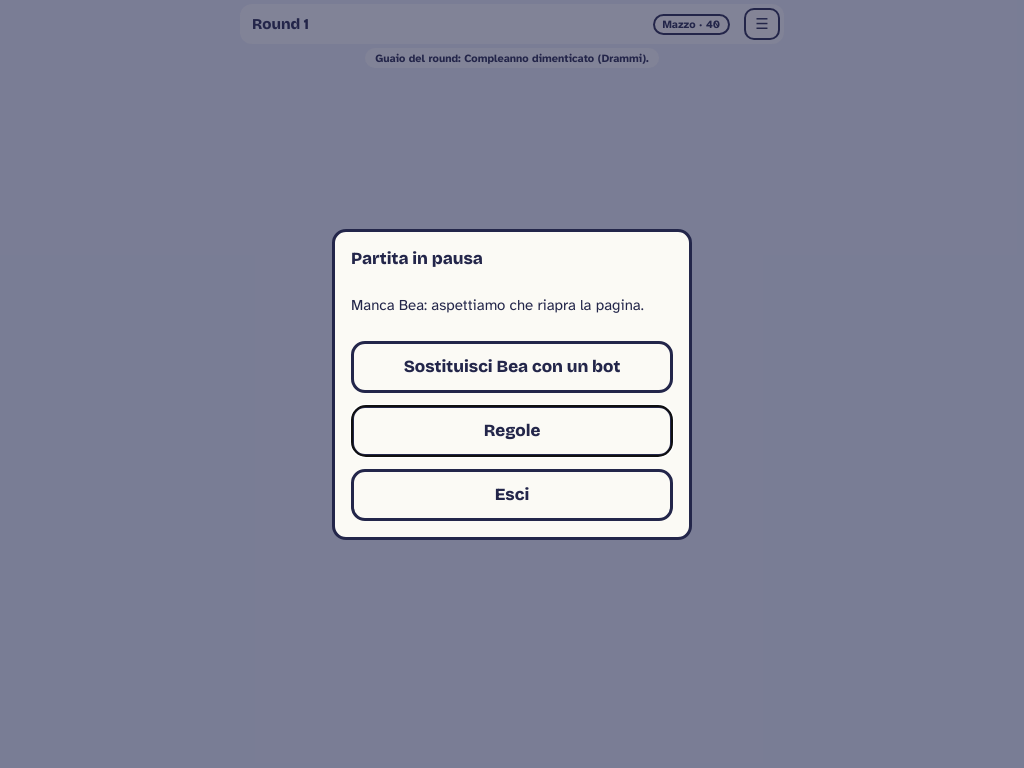
Test: Regole aperte dalla stanza › nel gioco vero (App): dal velo di pausa chi ospita ha il richiamo per decidere; al ritorno il punto della tastiera torna sul "Regole" del velo
This screenshot has width=1024, height=768.
Step 1. Click the button "Regole" → (512, 430), box [351, 404, 673, 456]
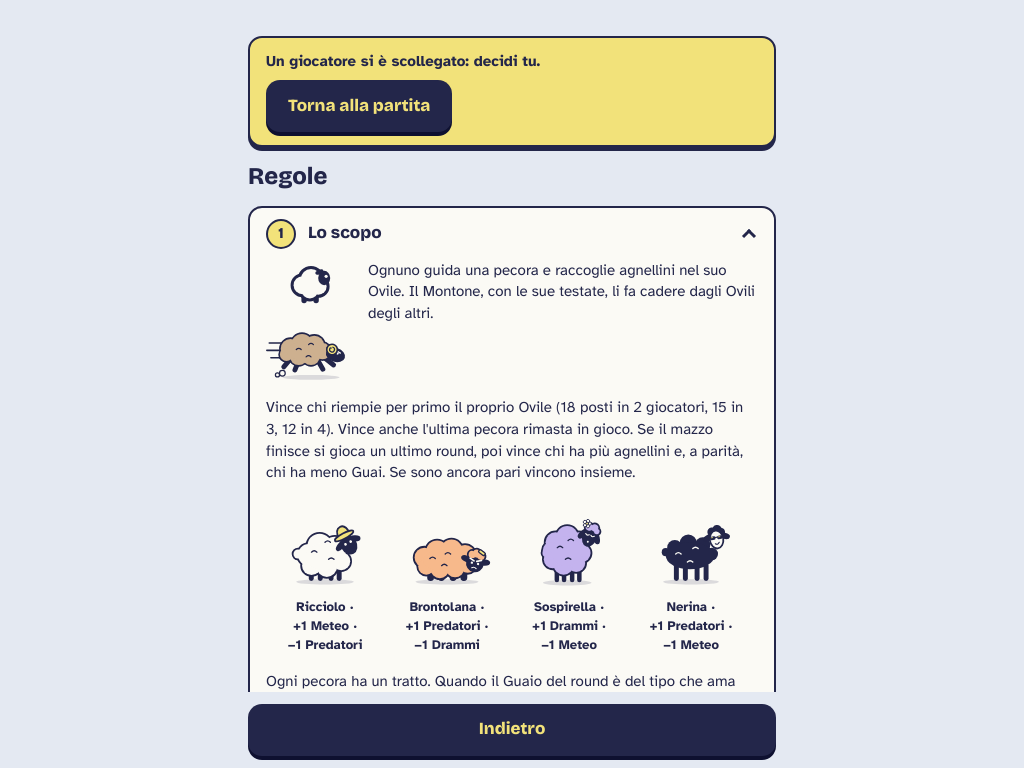
Check: the message with class "regole-richiamo" shows "Un giocatore si è scollegato: decidi tu.", box [266, 52, 540, 70]
Step 2. Click the button "Indietro" → (512, 730), box [248, 704, 776, 756]
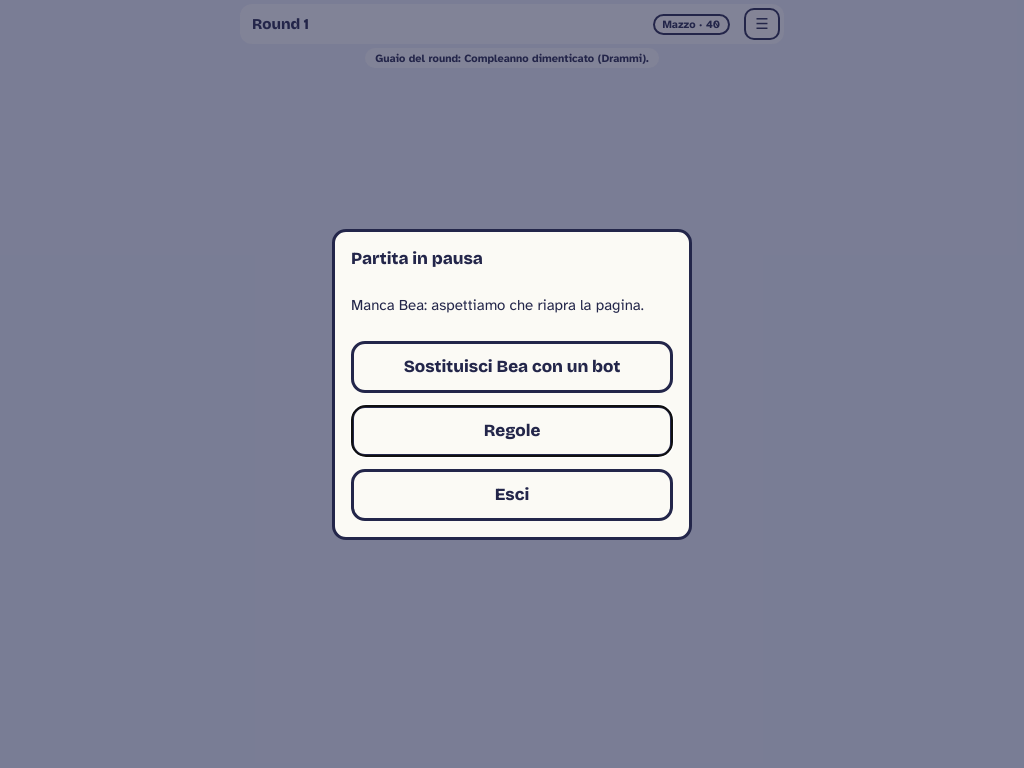
Check: the button "Regole" is shown, box [351, 404, 673, 456]
Check: the dialog is shown
